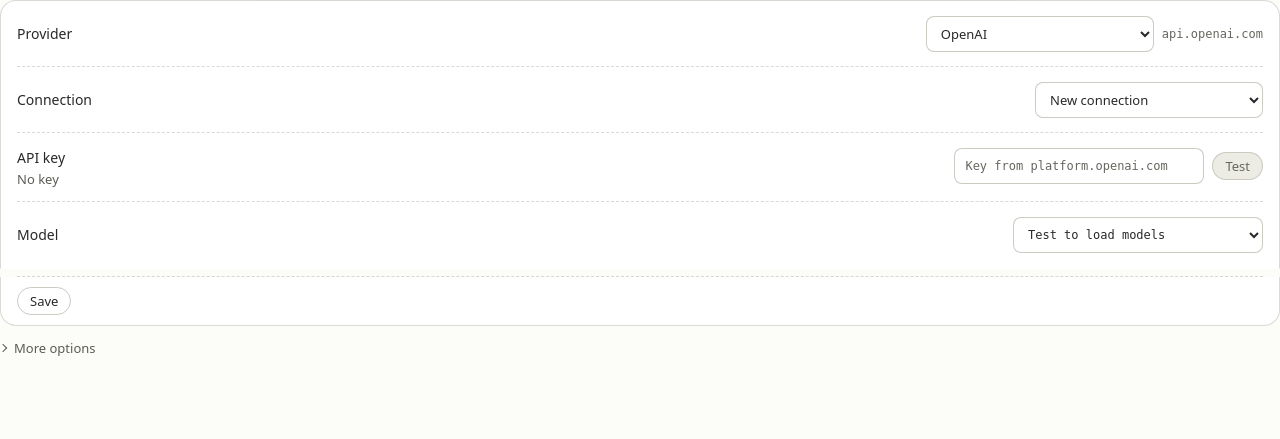
asks for a URL before Test can check anything
Step 1. Select "Custom" in the dropdown named "Provider" → {"x": 1040, "y": 34}, box [926,16,1154,52]
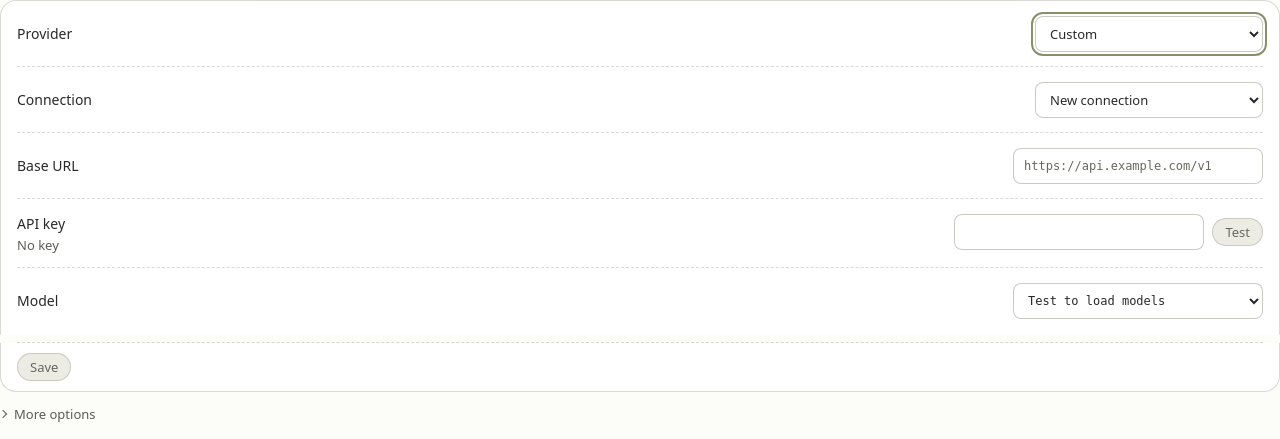
Expected: the button "Test" is disabled, [1212,218,1263,246]
Now the field named "Base URL" is empty
Step 2. Type "provider.example/v1" into the field named "Base URL" → {"x": 1138, "y": 166}, box [1013,148,1263,184]
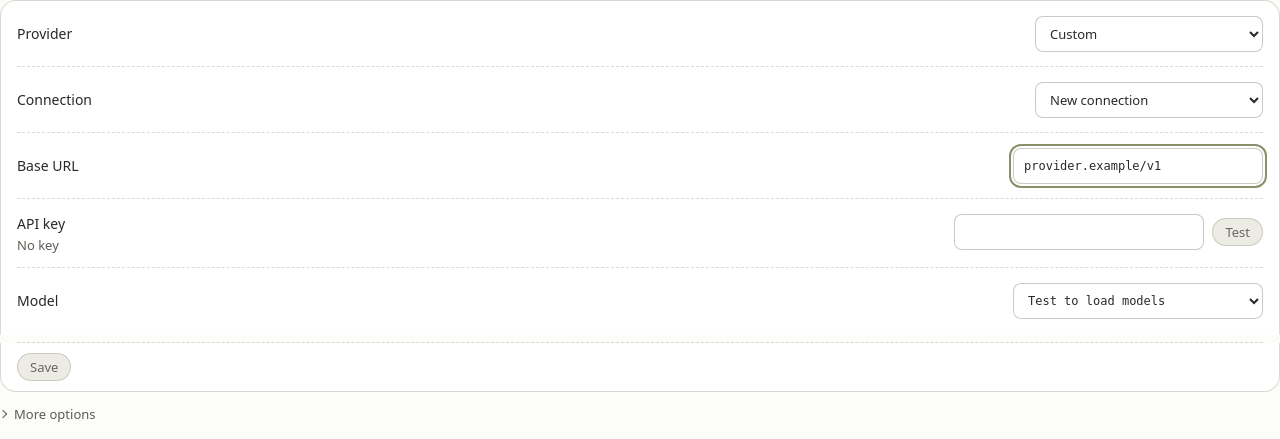
Expected: the button "Test" is disabled, [1212,218,1263,246]
Now the button "Test" has attribute title="Enter a valid URL first.", box [1212,218,1263,246]
A loopback server needs no key.
Step 3. Replace the text in the field named "Base URL" with "http://127.0.0.1:1234/v1" → {"x": 1138, "y": 166}, box [1013,148,1263,184]
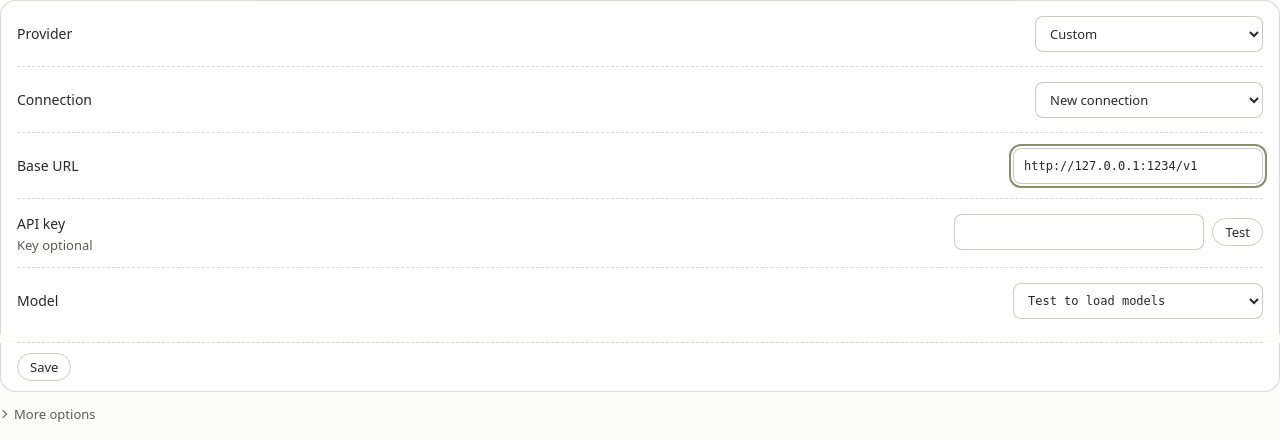
Now the button "Test" is enabled, box [1212,218,1263,246]
